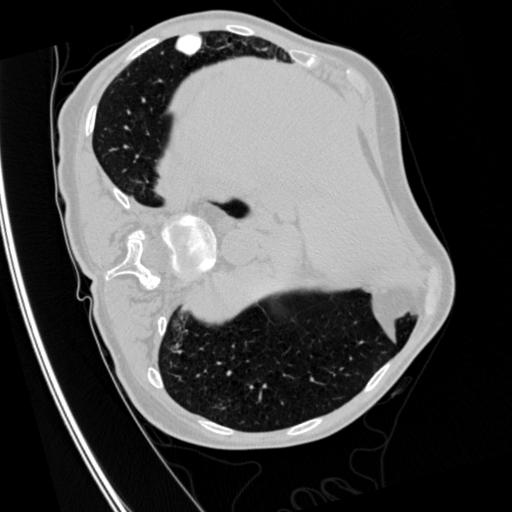nodule: (171, 24, 208, 61)
